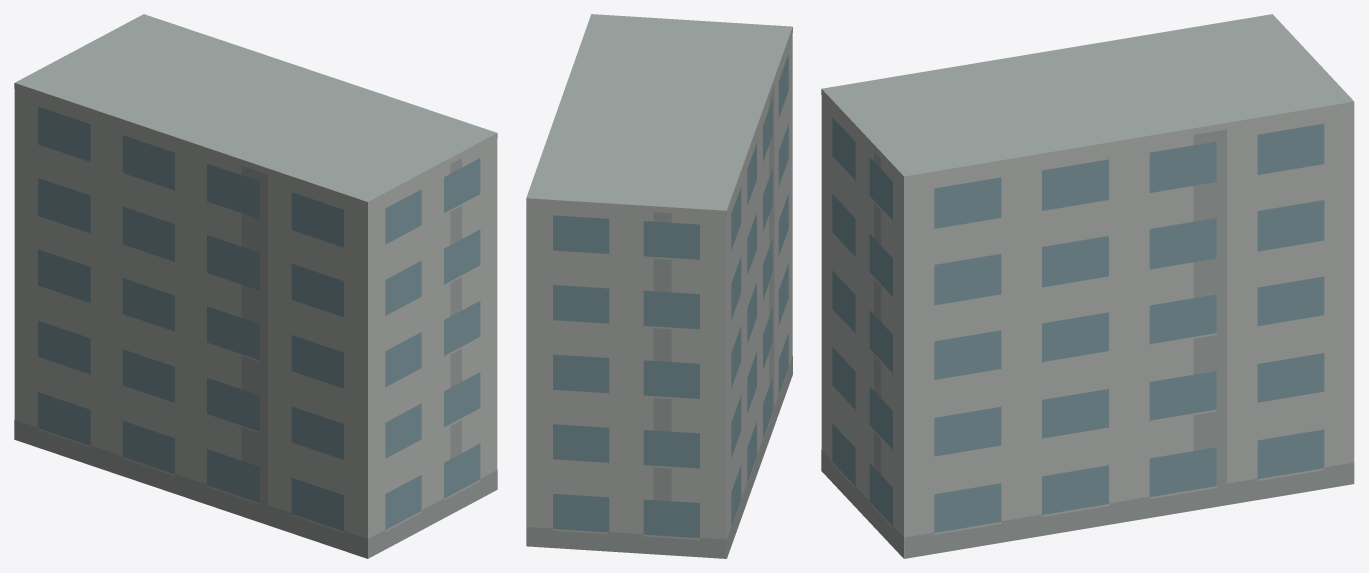
File: survey-upis-32894160.glb
3 views of the same model, side by side, from view 1: azimuth 30°, elevation 25°; view 2: azimuth 150°, elevation 25°; view 3: azimuth 270°, elevation 25° (orthographic). The views are drawn at different scales.
Visible parts, largest first — view 1: survey-upis-32894160.tmp; view 2: survey-upis-32894160.tmp; view 3: survey-upis-32894160.tmp.
Part boxes in pixels (x1,y1,x2,y2): survey-upis-32894160.tmp: (14,14,497,558); survey-upis-32894160.tmp: (526,14,792,558); survey-upis-32894160.tmp: (821,14,1354,558).
Bounding box in the file's own units: 12.86 × 14.1 × 17.82.
